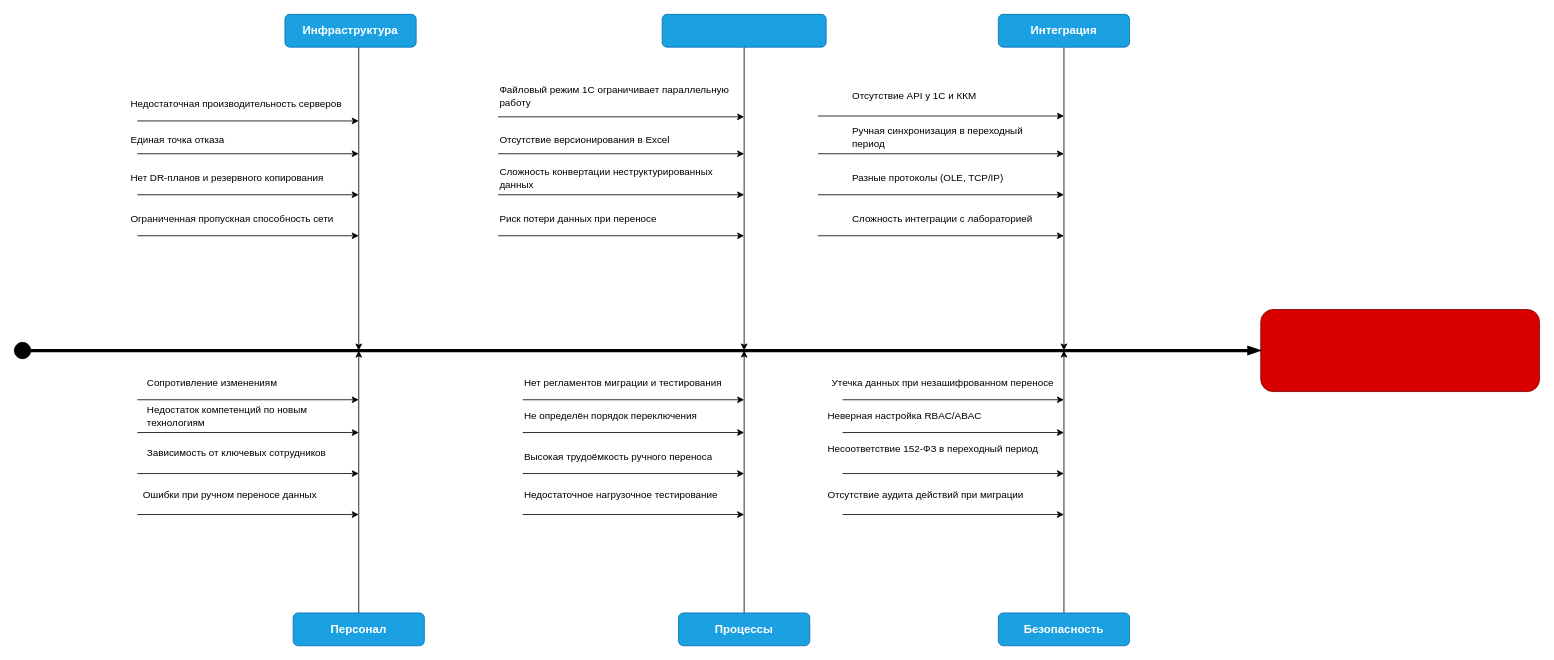
This 1554x660 diagram has some shape labels left out. Here are the shapes that lost their labels. From the top down, the box of each, then its label:
(661, 14, 826, 47): Программное обеспечение
(1260, 309, 1540, 392): Узкие места при миграции монолита на микросервисы
